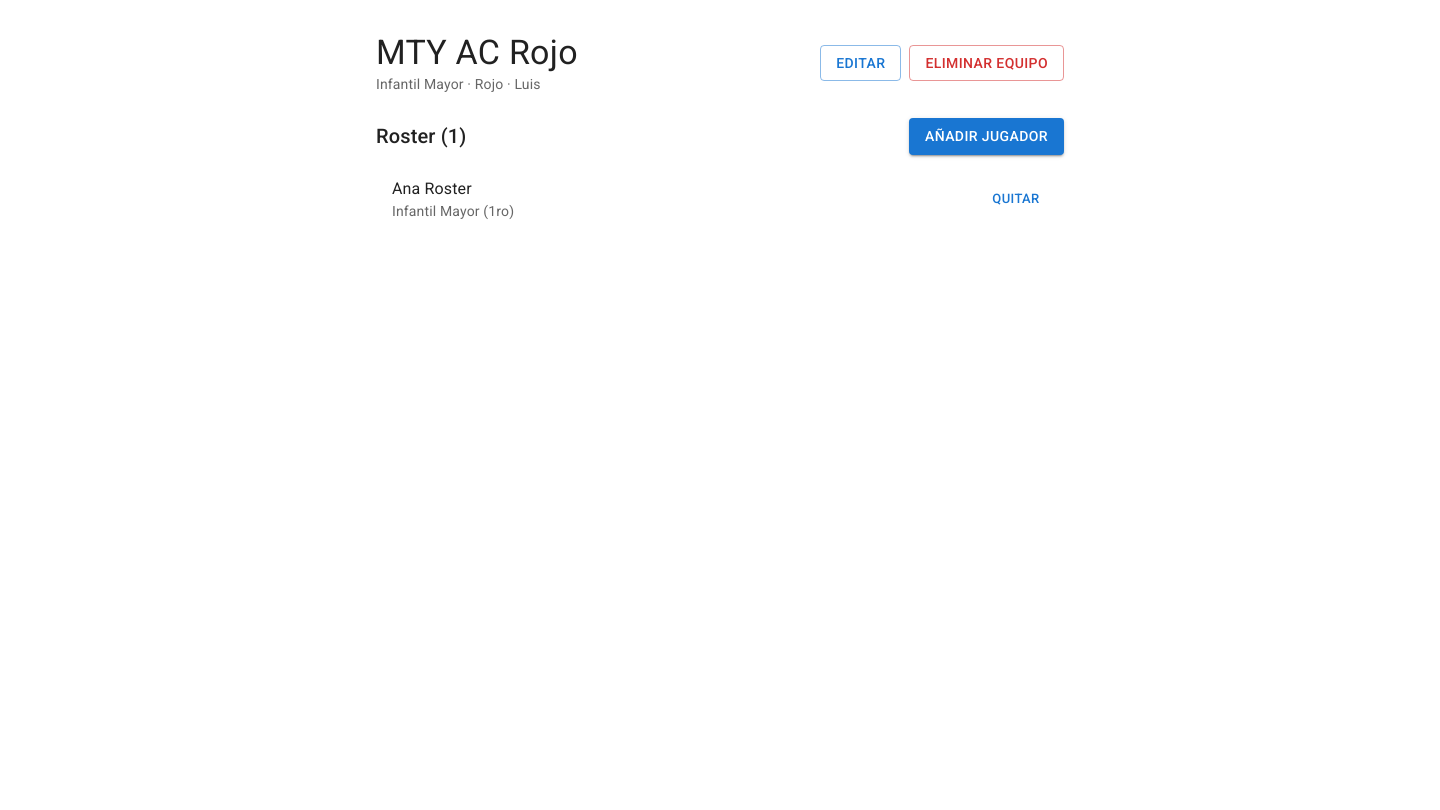
Scenario: a failed refresh after a mutation shows an error without losing the page
The width and height of the screenshot is (1440, 810).
Expected: the text "Ana Roster" is shown, [392, 178, 472, 198]
Click the button "Quitar" at (1016, 198), box [984, 183, 1048, 214]
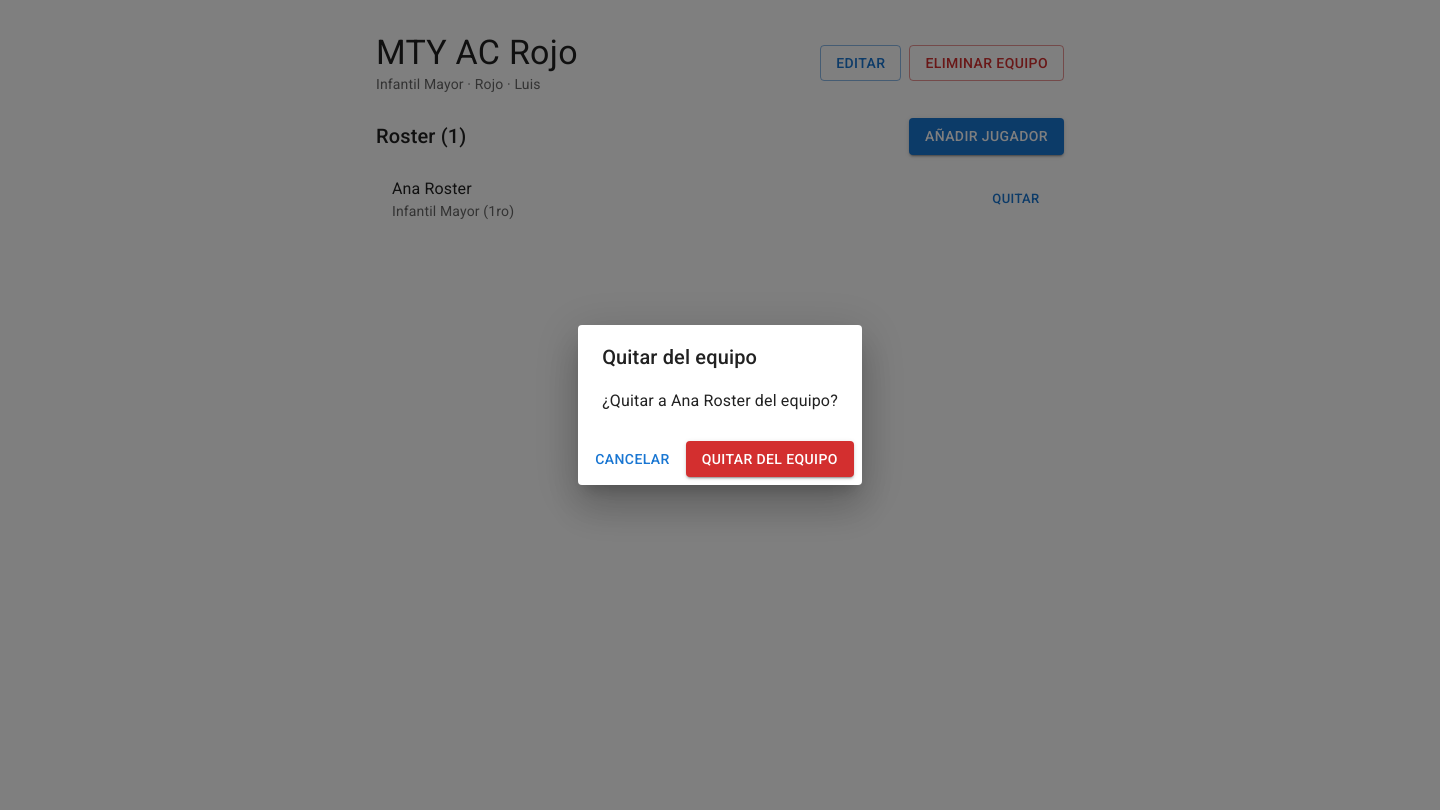
Click the button "Quitar del equipo" at (770, 459), box [686, 441, 854, 477]
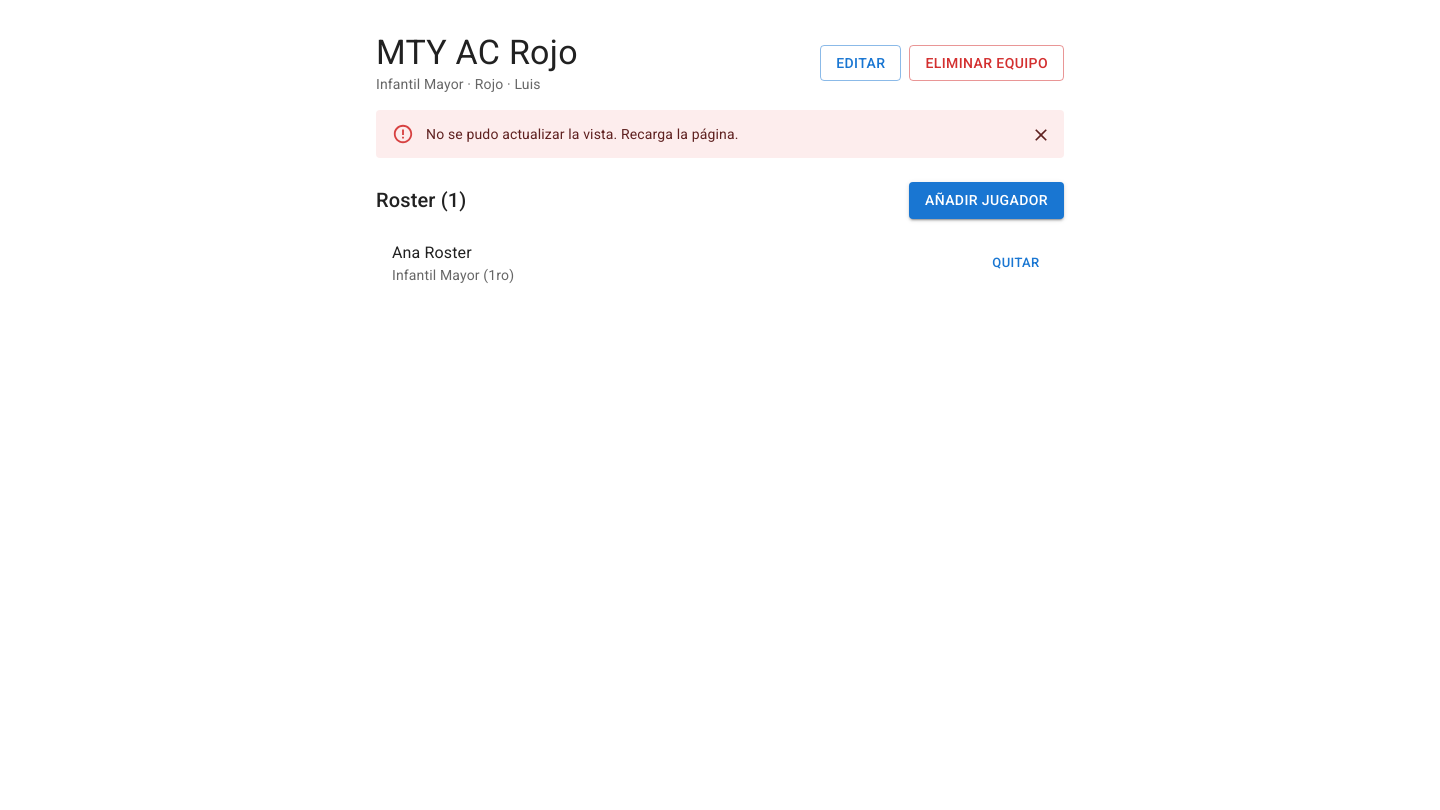
Expected: the heading "MTY AC Rojo" is shown, [376, 32, 578, 74]
Result: the text "No se pudo actualizar la vista. Recarga la página." is shown at [426, 126, 738, 142]
Result: the dialog is gone
